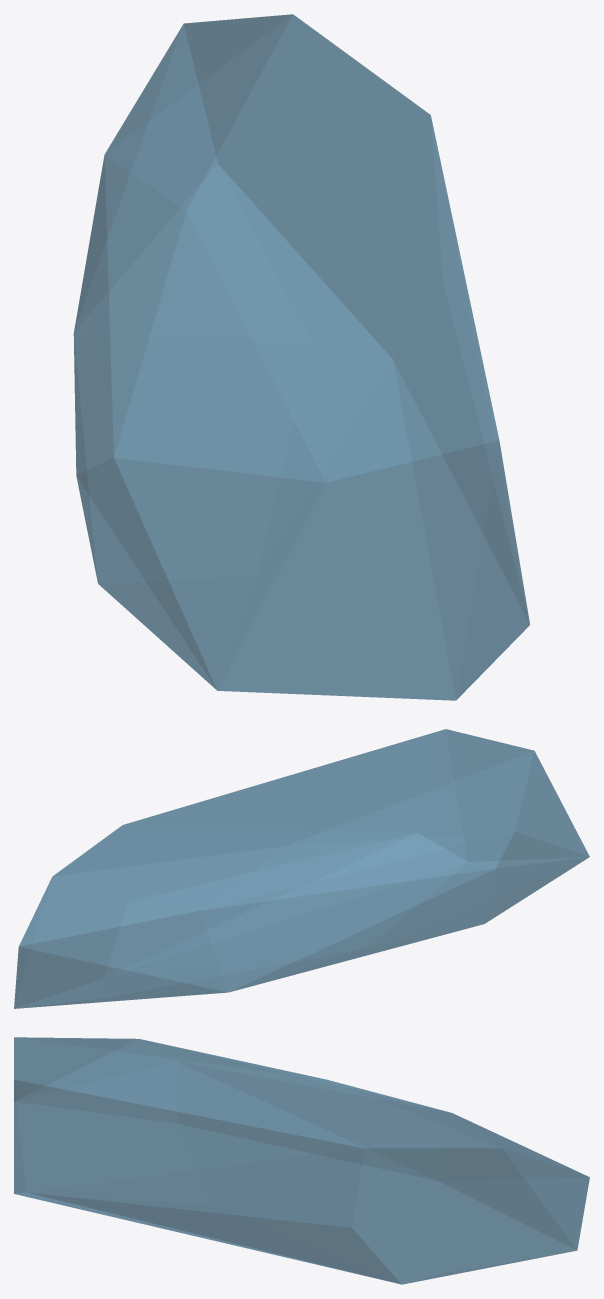
The picture shows the model from 3 angles, top to bottom: view 1: azimuth 30°, elevation 25°; view 2: azimuth 150°, elevation 25°; view 3: azimuth 270°, elevation 25°; orthographic projection. The views are drawn at different scales.
Visible parts, largest first — view 1: Shape_IndexedFaceSet.029_Shape_IndexedFaceSet.10664; view 2: Shape_IndexedFaceSet.029_Shape_IndexedFaceSet.10664; view 3: Shape_IndexedFaceSet.029_Shape_IndexedFaceSet.10664.
Boxes of the visible parts, box(x1,y1,x2,y2) form: Shape_IndexedFaceSet.029_Shape_IndexedFaceSet.10664: box(73, 14, 529, 700); Shape_IndexedFaceSet.029_Shape_IndexedFaceSet.10664: box(14, 729, 589, 1008); Shape_IndexedFaceSet.029_Shape_IndexedFaceSet.10664: box(14, 1037, 589, 1284).
Size of the model in its own units: 0.0645 by 0.0298 by 0.1141.
